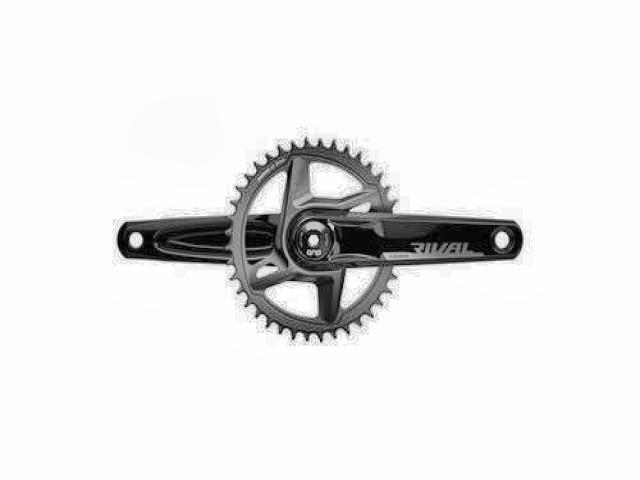cranks_set: (225, 134, 528, 342)
